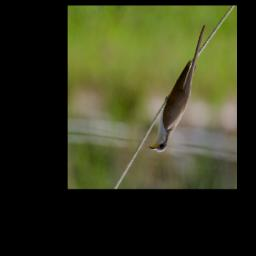Cuckoo: (148, 20, 207, 153)
